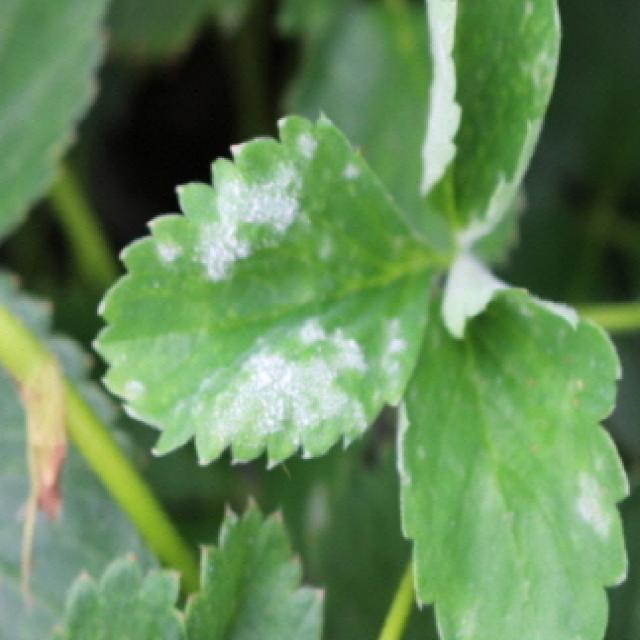Powdery Mildew Leaf: (88, 108, 455, 470), (393, 246, 633, 640), (416, 0, 563, 251)
